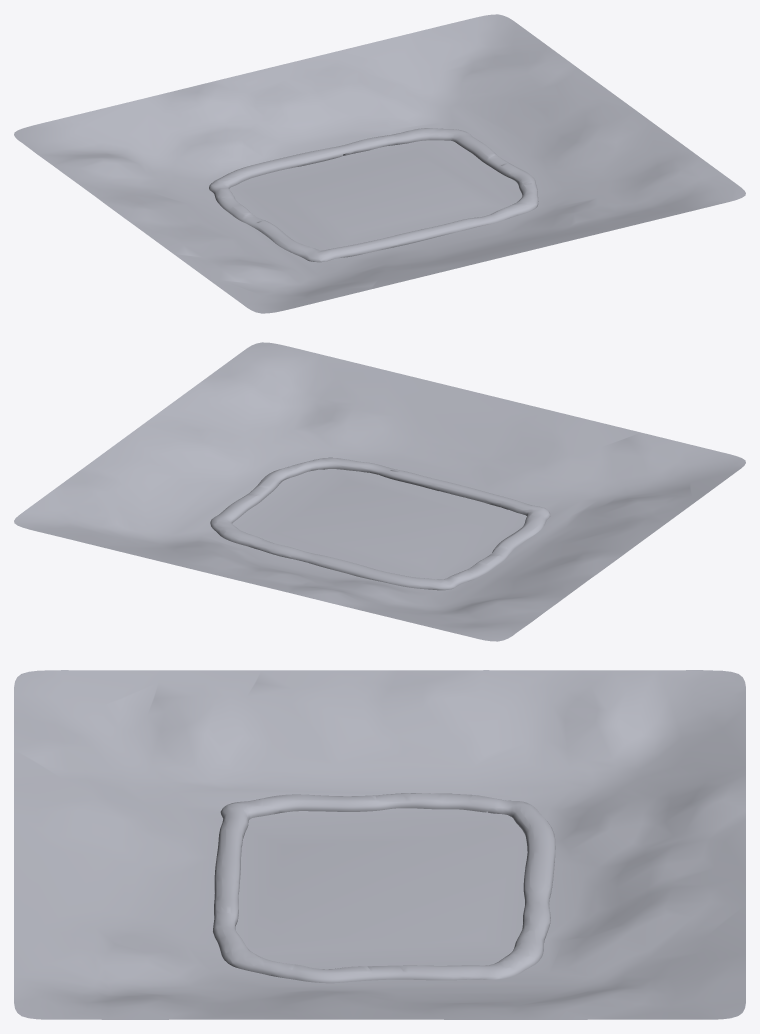
File: Lake Landscape.fbx
The picture shows the model from 3 angles, top to bottom: view 1: azimuth 30°, elevation 25°; view 2: azimuth 150°, elevation 25°; view 3: azimuth 270°, elevation 25°; orthographic projection. The views are drawn at different scales.
Visible parts, largest first — view 1: Lake Landscape; view 2: Lake Landscape; view 3: Lake Landscape.
Part boxes in pixels (<box>): Lake Landscape: <box>14,14,745,313</box>; Lake Landscape: <box>14,342,745,641</box>; Lake Landscape: <box>14,670,745,1019</box>.
Bounding box in the file's own units: 86.39 × 5.65 × 76.45.
